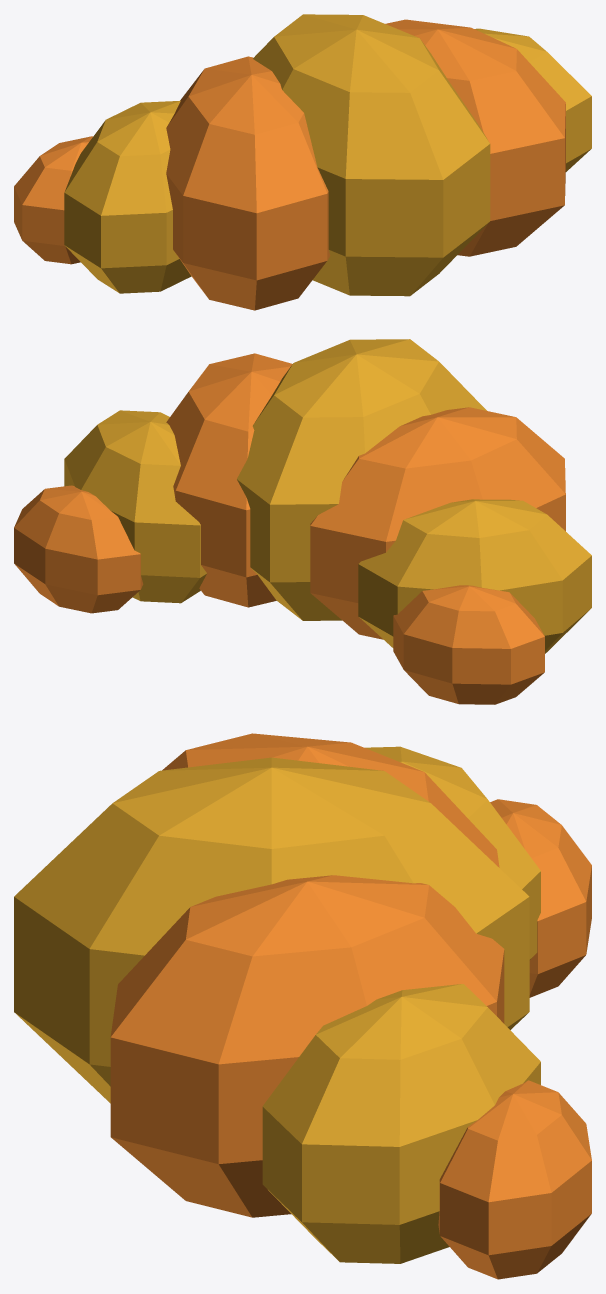
Rendered from croissant.glb.
The picture shows the model from 3 angles, top to bottom: view 1: azimuth 30°, elevation 25°; view 2: azimuth 150°, elevation 25°; view 3: azimuth 270°, elevation 25°; orthographic projection. The views are drawn at different scales.
Visible parts, largest first — view 1: croissant; view 2: croissant; view 3: croissant.
Part boxes in pixels (box(x1,y1,x2,y2)): croissant: box(14, 14, 591, 310); croissant: box(14, 339, 591, 704); croissant: box(14, 733, 591, 1279).
Size of the model in its own units: 0.153 by 0.0703 by 0.0986.
